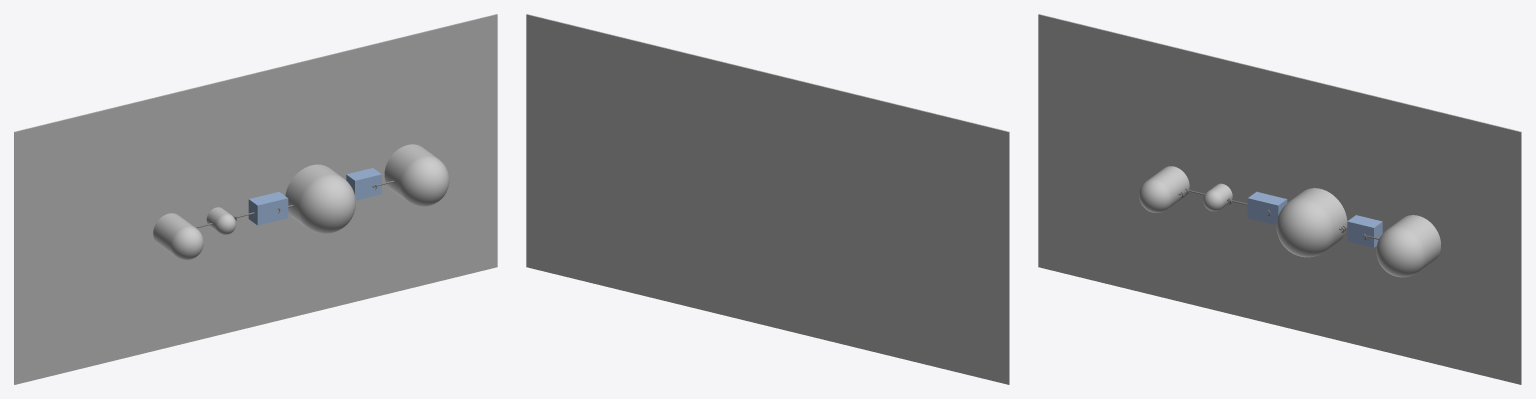
Rendered from wtp_20260218_145400.glb.
3 renders of one model, left to right at view 1: azimuth 30°, elevation 25°; view 2: azimuth 150°, elevation 25°; view 3: azimuth 330°, elevation 25°, orthographic.
Parts seen in each view (by area): view 1: world; view 2: world; view 3: world.
Boxes of the visible parts, x1,y1,x2,y2 form: world: (14, 14, 497, 384); world: (526, 14, 1009, 384); world: (1038, 14, 1521, 384).
Size of the model in its own units: 400 by 200 by 52.51.
